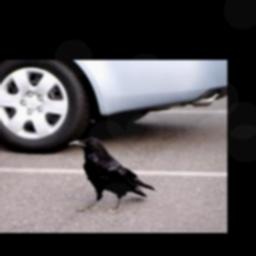Crow: (69, 134, 157, 213)
